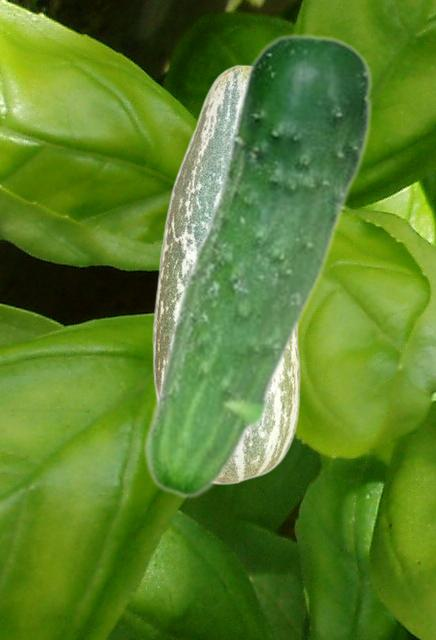cucumber: (141, 33, 373, 498), (152, 64, 300, 484)
